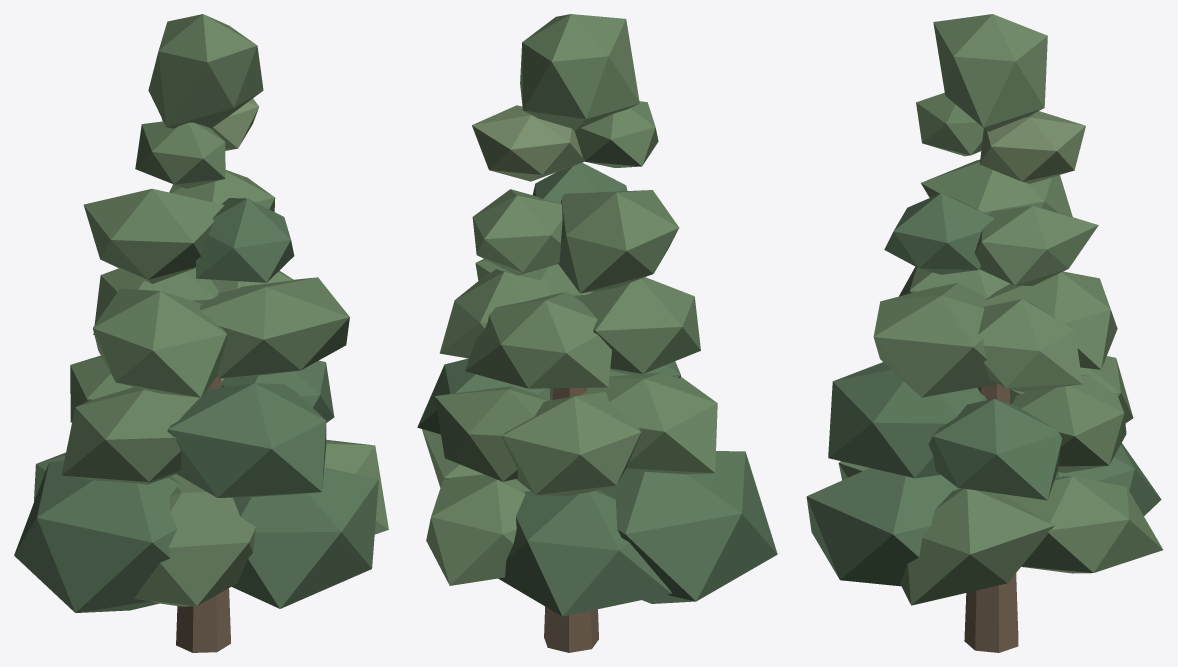
File: PinyonPine.glb
The picture shows the model from 3 angles, left to right: view 1: azimuth 30°, elevation 25°; view 2: azimuth 150°, elevation 25°; view 3: azimuth 270°, elevation 25°; orthographic projection.
Parts seen in each view (by area): view 1: Pinyon crown.003, Pinyon crown.009, Pinyon crown.005, Pinyon crown.012, Pinyon crown.013, Pinyon crown.020, Pinyon crown.008, Pinyon crown.004, Pinyon crown.015, Pinyon crown.016, Pinyon crown.018, Limb.018 (+7 smaller); view 2: Pinyon crown.003, Pinyon crown.002, Pinyon crown.020, Pinyon crown.011, Pinyon crown.007, Pinyon crown.015, Pinyon crown.008, Pinyon crown.001, Pinyon crown.012, Pinyon crown.006, Pinyon crown.017, Pinyon crown.019 (+7 smaller); view 3: Pinyon crown.005, Pinyon crown, Pinyon crown.009, Pinyon crown.013, Pinyon crown.020, Pinyon crown.010, Pinyon crown.001, Pinyon crown.014, Pinyon crown.017, Pinyon crown.006, Pinyon crown.016, Pinyon crown.019 (+7 smaller).
Part boxes in pixels (x1=…): Pinyon crown.003: x1=14, y1=461, x2=182, y2=612; Pinyon crown.009: x1=167, y1=383, x2=326, y2=497; Pinyon crown.005: x1=232, y1=467, x2=378, y2=608; Pinyon crown.012: x1=92, y1=288, x2=227, y2=397; Pinyon crown.013: x1=200, y1=277, x2=349, y2=378; Pinyon crown.020: x1=148, y1=14, x2=263, y2=128; Pinyon crown.008: x1=61, y1=387, x2=199, y2=484; Pinyon crown.004: x1=134, y1=474, x2=255, y2=606; Pinyon crown.015: x1=83, y1=188, x2=224, y2=283; Pinyon crown.016: x1=196, y1=198, x2=294, y2=282; Pinyon crown.018: x1=135, y1=121, x2=225, y2=188; Limb.018: x1=176, y1=376, x2=230, y2=652; Pinyon crown.003: x1=600, y1=451, x2=777, y2=603; Pinyon crown.002: x1=498, y1=489, x2=671, y2=616; Pinyon crown.020: x1=520, y1=14, x2=639, y2=131; Pinyon crown.011: x1=465, y1=292, x2=611, y2=388; Pinyon crown.007: x1=502, y1=392, x2=640, y2=495; Pinyon crown.015: x1=558, y1=190, x2=679, y2=293; Pinyon crown.008: x1=580, y1=372, x2=717, y2=474; Pinyon crown.001: x1=426, y1=474, x2=530, y2=585; Pinyon crown.012: x1=578, y1=277, x2=700, y2=375; Pinyon crown.006: x1=434, y1=386, x2=551, y2=481; Pinyon crown.017: x1=472, y1=189, x2=562, y2=275; Pinyon crown.019: x1=472, y1=105, x2=584, y2=181; Pinyon crown.005: x1=806, y1=468, x2=960, y2=586; Pinyon crown: x1=900, y1=488, x2=1054, y2=605; Pinyon crown.009: x1=828, y1=362, x2=986, y2=478; Pinyon crown.013: x1=873, y1=283, x2=997, y2=397; Pinyon crown.020: x1=933, y1=14, x2=1047, y2=131; Pinyon crown.010: x1=928, y1=399, x2=1061, y2=500; Pinyon crown.001: x1=1000, y1=476, x2=1163, y2=573; Pinyon crown.014: x1=978, y1=299, x2=1082, y2=391; Pinyon crown.017: x1=974, y1=206, x2=1098, y2=285; Pinyon crown.006: x1=1012, y1=374, x2=1126, y2=472; Pinyon crown.016: x1=884, y1=193, x2=994, y2=274; Pinyon crown.019: x1=979, y1=111, x2=1085, y2=183.
Size of the model in its own units: 2.68 by 4.88 by 2.52.
